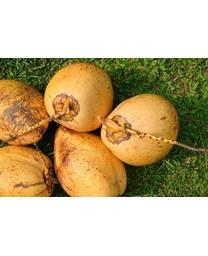coconut: (99, 94, 181, 167), (43, 62, 114, 132), (55, 127, 126, 197), (1, 75, 50, 146), (1, 145, 55, 197)
